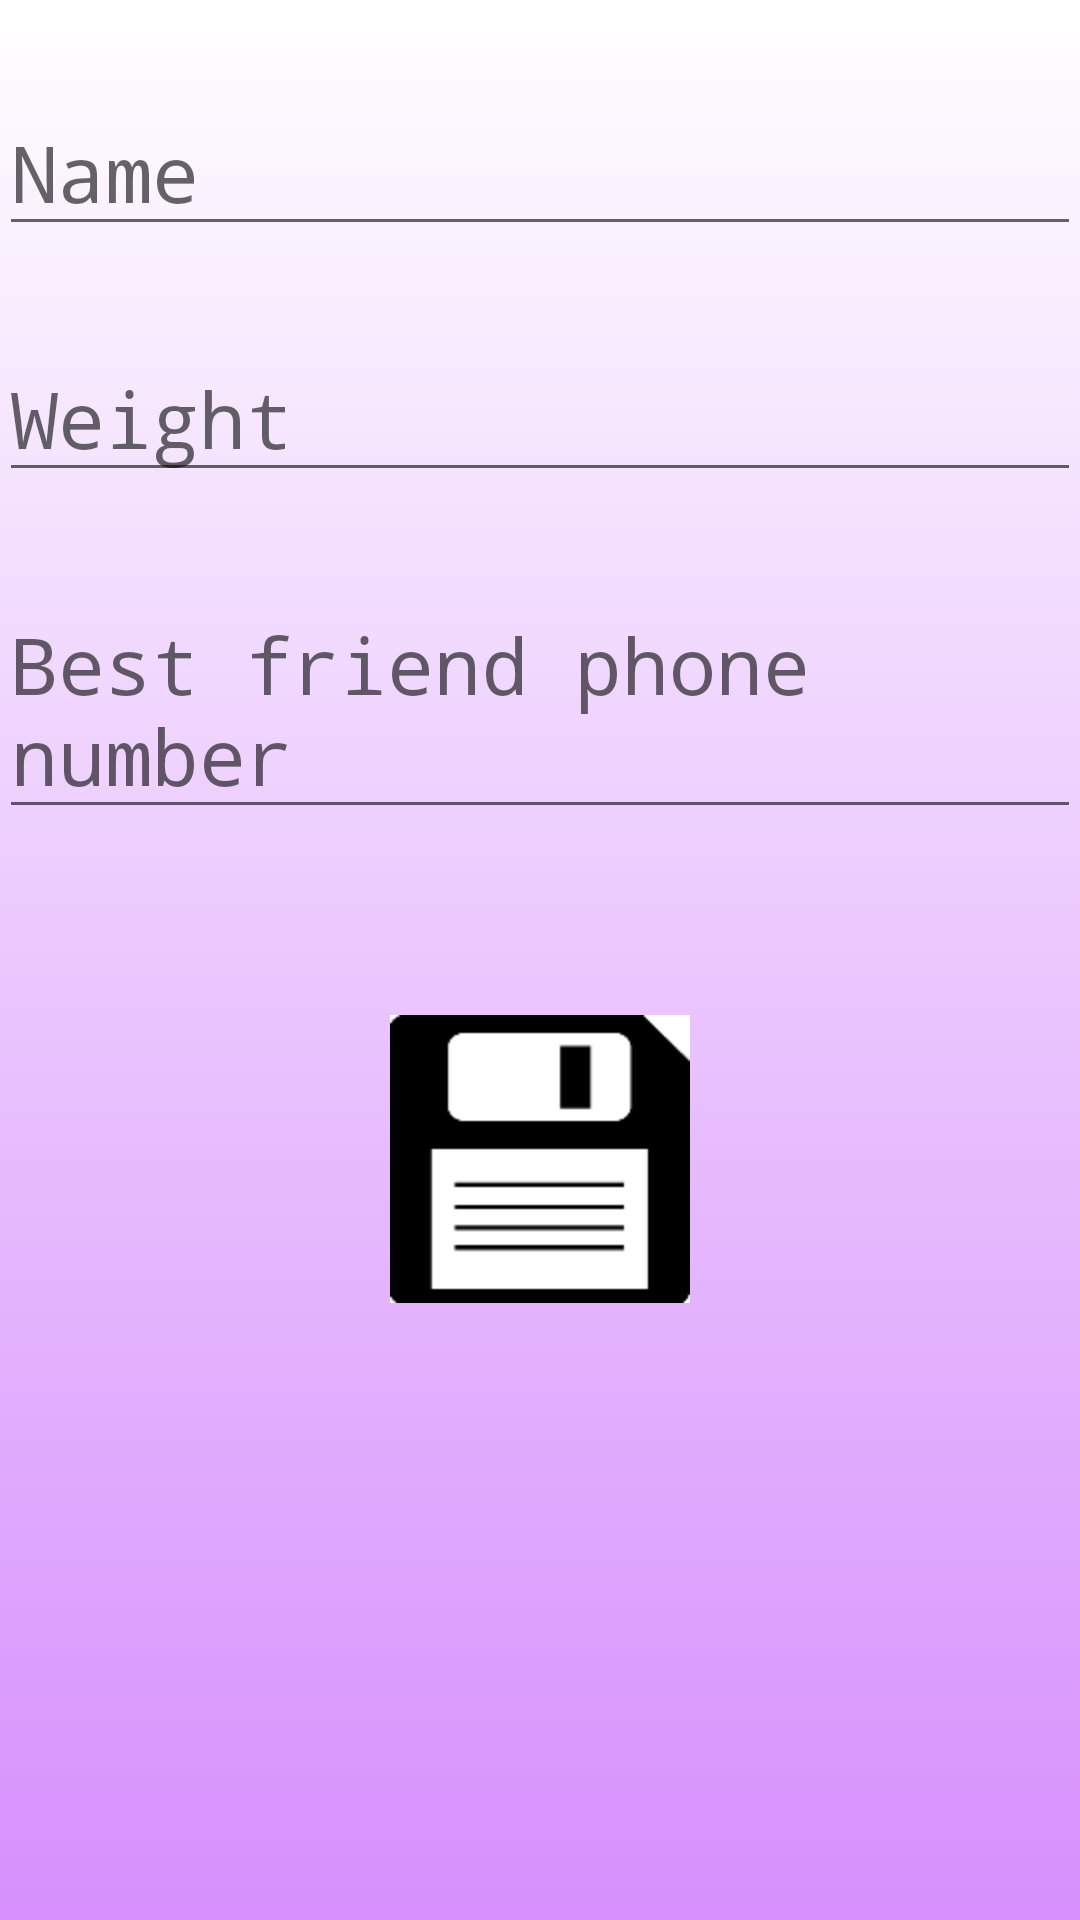

Point at icon controls on the screen. Image size 1080px×1920px, points as [x,y].
save: [540,1159]
